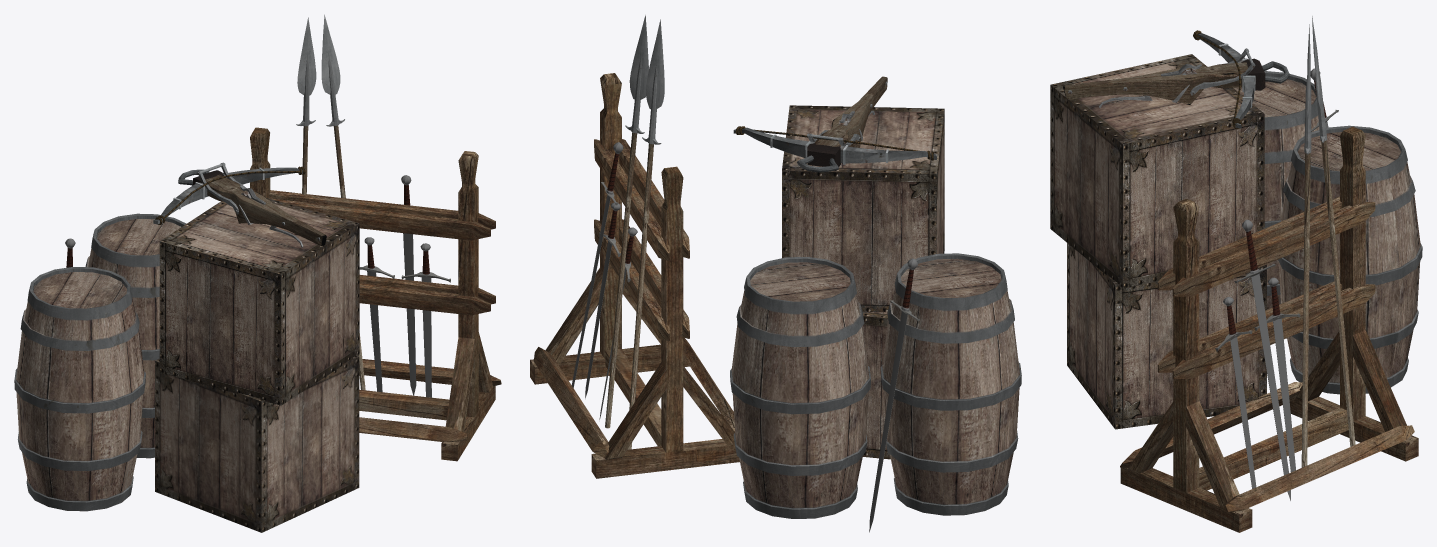
The model's file is Medieval_Props.obj.
3 renders of one model, left to right at view 1: azimuth 30°, elevation 25°; view 2: azimuth 150°, elevation 25°; view 3: azimuth 270°, elevation 25°, orthographic. The views are drawn at different scales.
Parts seen in each view (by area): view 1: Crate001, Barrel001, Crate, Weapon_rack, Barrel, Crossbow, Spear001, Spear, Two_handed_sword, One_handed_sword, One_handed_sword001; view 2: Barrel, Barrel001, Weapon_rack, Crate001, Crossbow, Spear001, Spear, Crate, Two_handed_sword001, Two_handed_sword, One_handed_sword; view 3: Weapon_rack, Crate001, Crate, Barrel, Crossbow, Barrel001, Spear001, Spear, Two_handed_sword, One_handed_sword001, One_handed_sword.
Part boxes in pixels (x1=…): Crate001: x1=159, y1=197, x2=359, y2=405; Barrel001: x1=14, y1=267, x2=145, y2=511; Crate: x1=155, y1=355, x2=359, y2=532; Weapon_rack: x1=250, y1=127, x2=501, y2=461; Barrel: x1=85, y1=213, x2=186, y2=458; Crossbow: x1=153, y1=162, x2=326, y2=247; Spear001: x1=321, y1=14, x2=365, y2=390; Spear: x1=296, y1=17, x2=316, y2=194; Two_handed_sword: x1=401, y1=175, x2=416, y2=395; One_handed_sword: x1=401, y1=243, x2=450, y2=397; One_handed_sword001: x1=359, y1=237, x2=394, y2=392; Barrel: x1=730, y1=257, x2=870, y2=518; Barrel001: x1=880, y1=253, x2=1021, y2=515; Weapon_rack: x1=530, y1=73, x2=739, y2=478; Crate001: x1=782, y1=105, x2=944, y2=312; Crossbow: x1=733, y1=76, x2=936, y2=172; Spear001: x1=605, y1=15, x2=648, y2=428; Spear: x1=627, y1=19, x2=664, y2=449; Crate: x1=862, y1=312, x2=890, y2=459; Two_handed_sword001: x1=869, y1=258, x2=920, y2=532; Two_handed_sword: x1=571, y1=142, x2=623, y2=387; One_handed_sword: x1=585, y1=202, x2=620, y2=398; Weapon_rack: x1=1120, y1=126, x2=1418, y2=532; Crate001: x1=1050, y1=54, x2=1264, y2=288; Crate: x1=1067, y1=243, x2=1266, y2=429; Barrel: x1=1278, y1=125, x2=1422, y2=394; Crossbow: x1=1063, y1=30, x2=1289, y2=128; Barrel001: x1=1233, y1=71, x2=1319, y2=338; Spear001: x1=1301, y1=24, x2=1311, y2=467; Spear: x1=1312, y1=16, x2=1355, y2=446; Two_handed_sword: x1=1234, y1=219, x2=1290, y2=500; One_handed_sword001: x1=1254, y1=277, x2=1300, y2=472; One_handed_sword: x1=1215, y1=297, x2=1256, y2=488.
Bounding box in the file's own units: 93.05 × 78.45 × 58.97.
6 materials, 6 textured.
